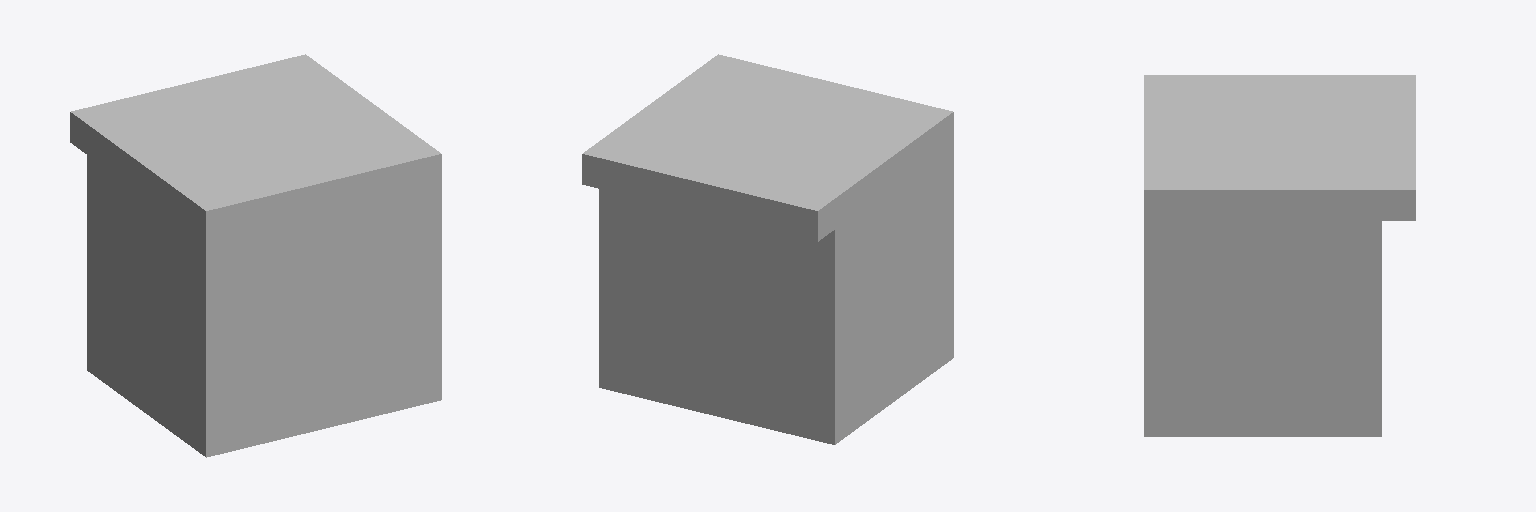
Rendered from FM_counter_mid_1.obj.
3 views of the same model, side by side, from view 1: azimuth 30°, elevation 25°; view 2: azimuth 150°, elevation 25°; view 3: azimuth 270°, elevation 25° (orthographic).
Parts seen in each view (by area): view 1: nodebox30, nodebox31; view 2: nodebox30, nodebox31; view 3: nodebox30, nodebox31.
Boxes of the visible parts, <box> form: nodebox30: <box>87,155,441,457</box>; nodebox31: <box>70,54,441,241</box>; nodebox30: <box>599,143,953,444</box>; nodebox31: <box>582,54,953,241</box>; nodebox30: <box>1144,221,1381,436</box>; nodebox31: <box>1144,75,1415,220</box>.
Size of the model in its own units: 1 by 1 by 1.